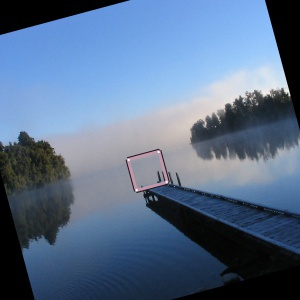square: (124, 147, 170, 194)
